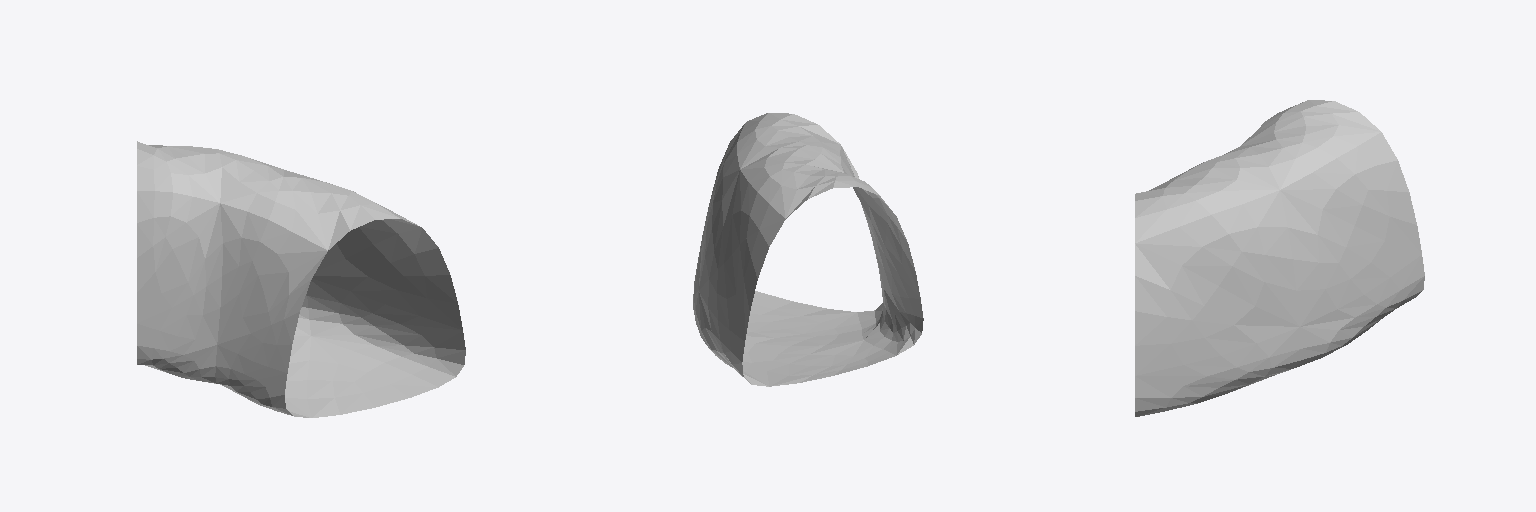
The model's file is cave_602_1.obj.
3 views of the same model, side by side, from view 1: azimuth 30°, elevation 25°; view 2: azimuth 150°, elevation 25°; view 3: azimuth 270°, elevation 25° (orthographic).
Parts seen in each view (by area): view 1: cave_602_1_Cube.018; view 2: cave_602_1_Cube.018; view 3: cave_602_1_Cube.018.
Boxes of the visible parts, x1=… form: cave_602_1_Cube.018: x1=137, y1=141, x2=465, y2=417; cave_602_1_Cube.018: x1=693, y1=113, x2=923, y2=386; cave_602_1_Cube.018: x1=1135, y1=100, x2=1424, y2=416.
Bounding box in the file's own units: 8.91 × 6.81 × 8.14.